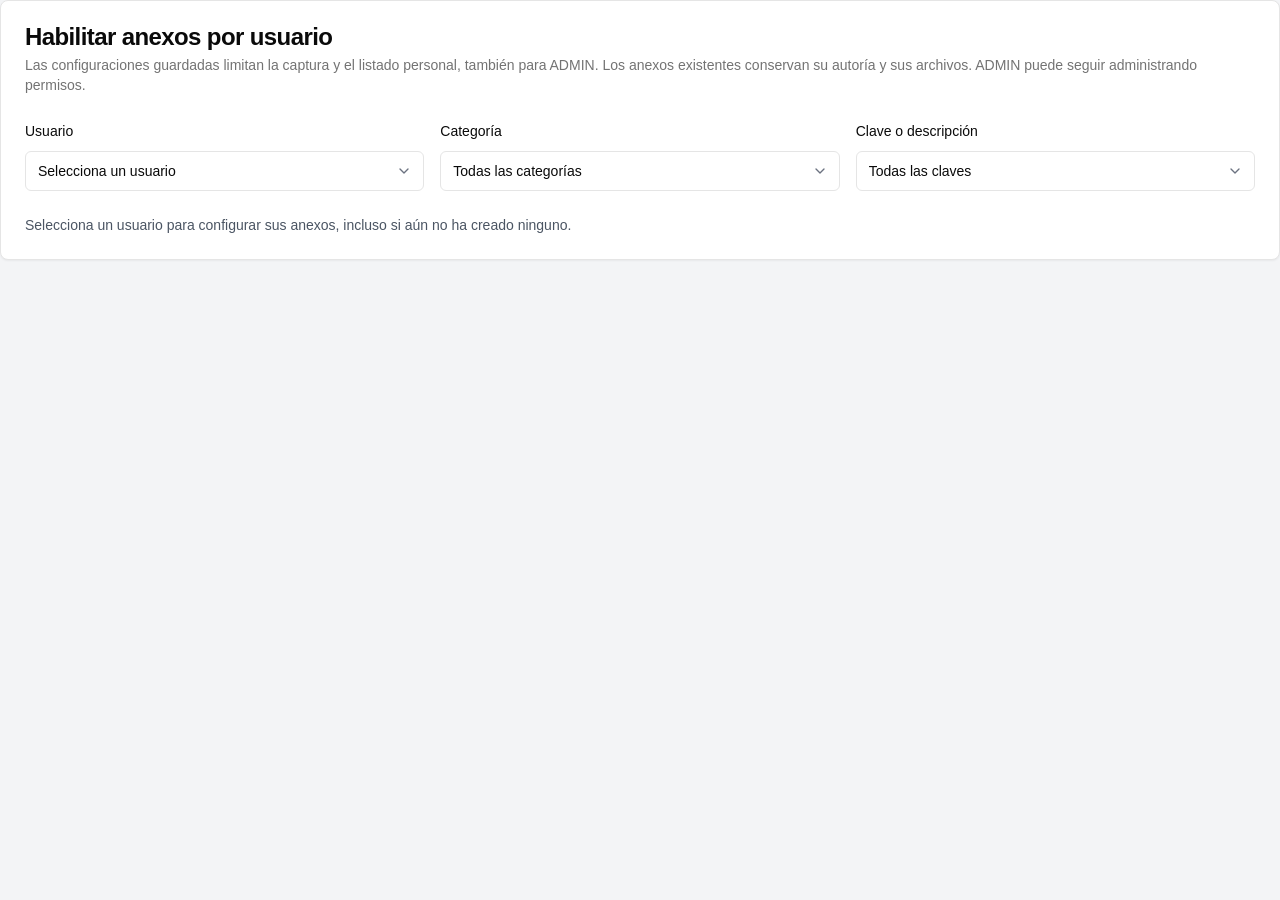
Test case: loads a proposal without applying or saving it
Replace the text in the dropdown named "Filtrar por usuario" with "Ana": (225, 171) 25,151 -> 424,191
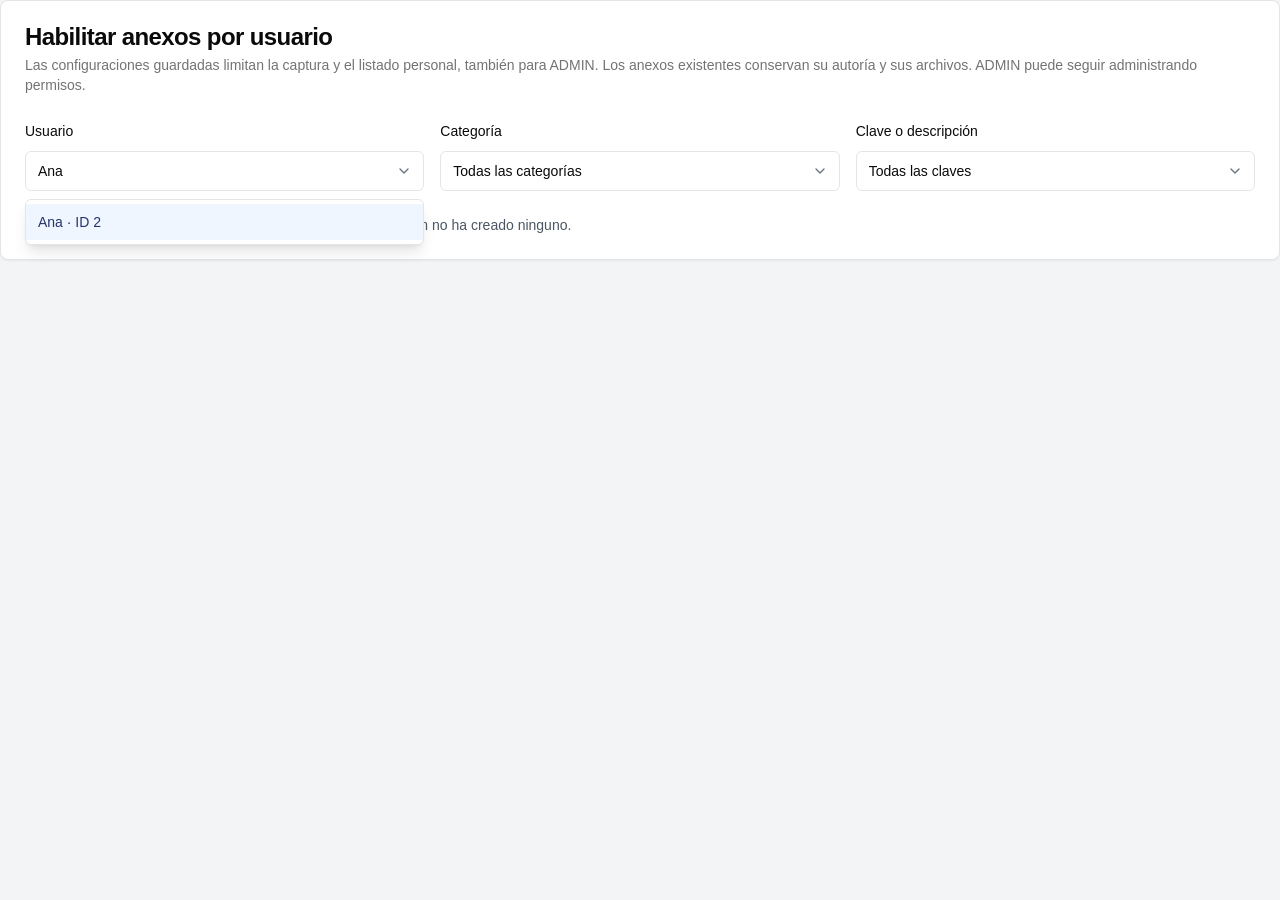
Press Enter in the dropdown named "Filtrar por usuario", box 25,151 -> 424,191
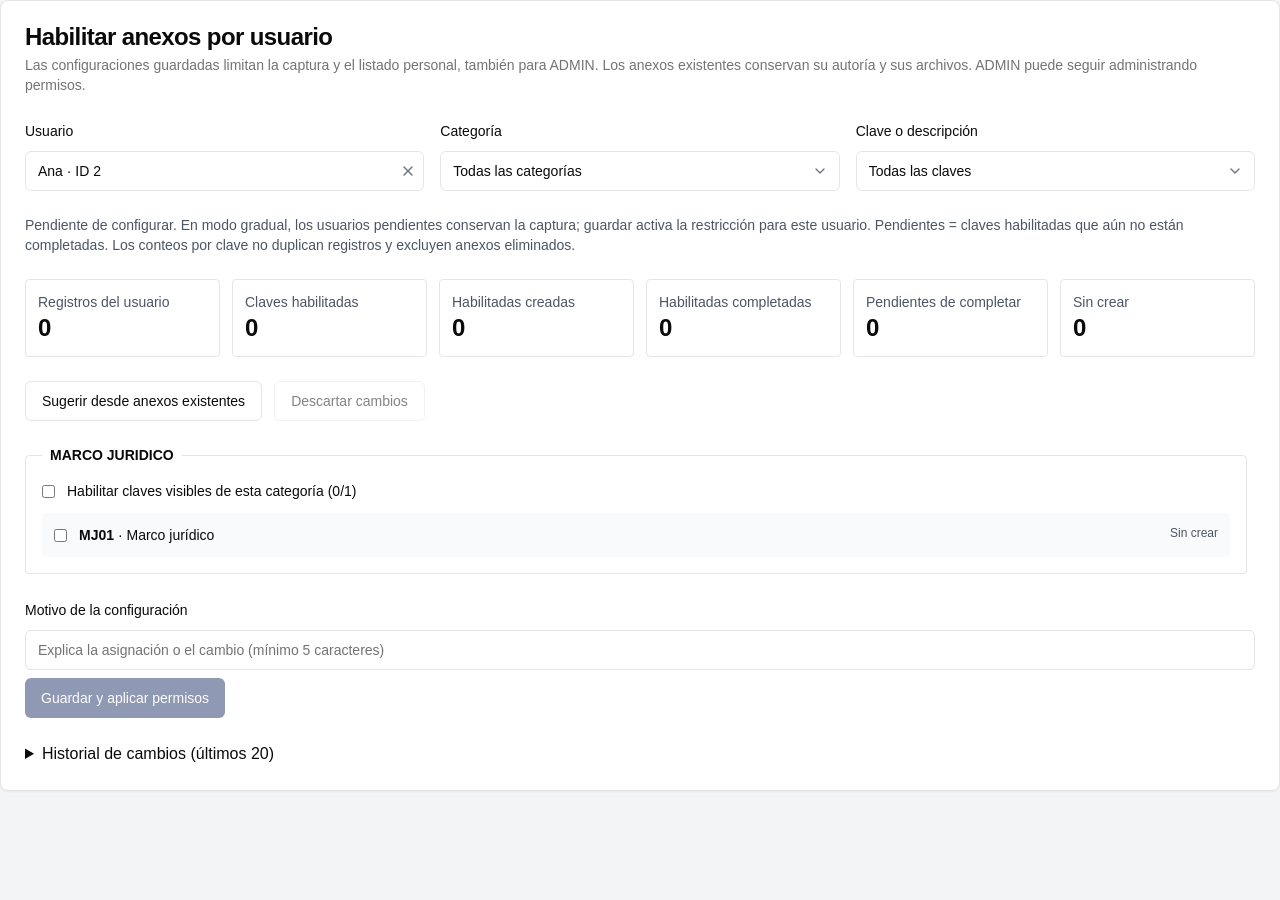
Result: the checkbox labelled "MJ01 · Marco jurídico Sin crear" is shown at 54,529 -> 67,542
Click the button "Sugerir desde anexos existentes": (144, 401) 25,381 -> 262,421
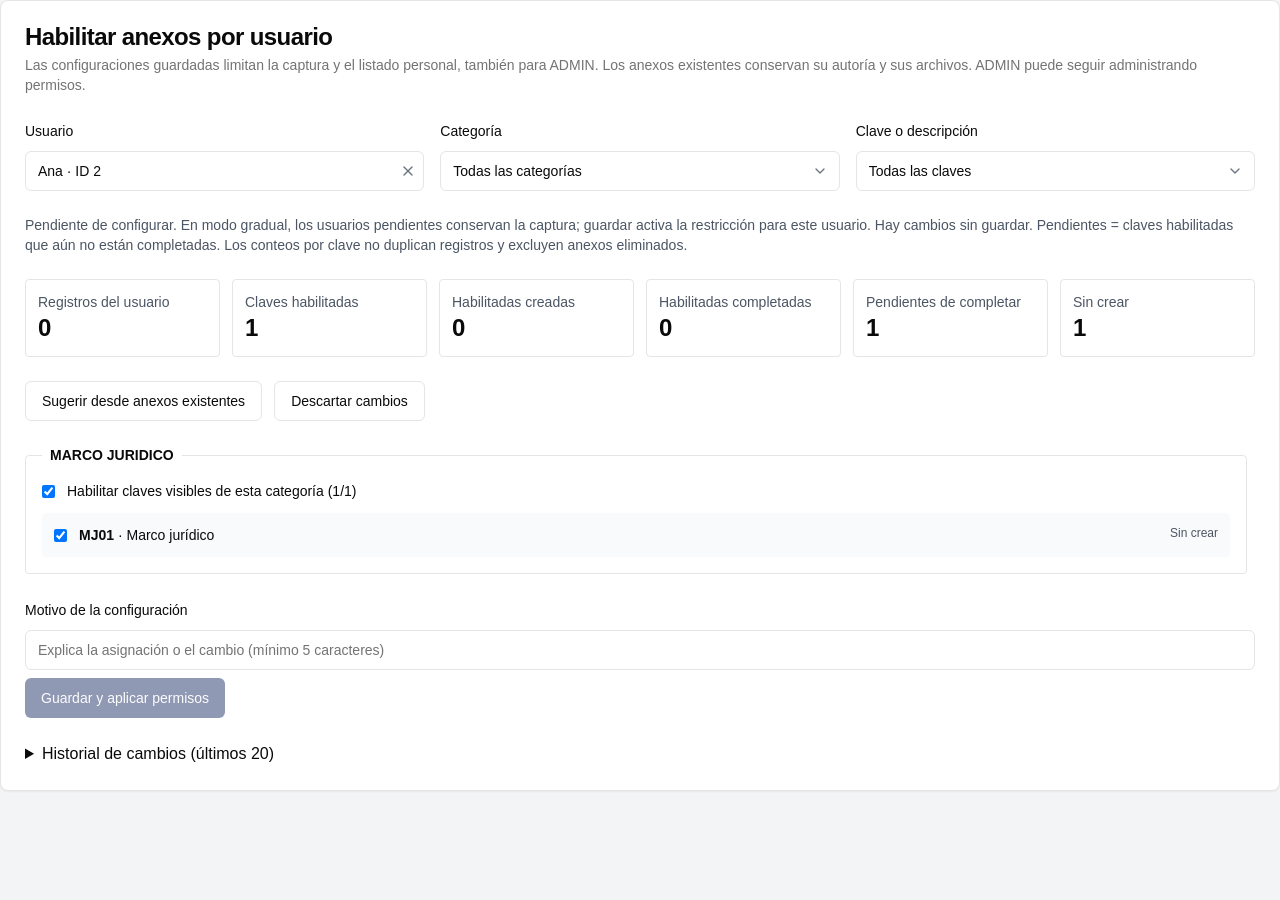
Result: the checkbox labelled "MJ01 · Marco jurídico Sin crear" is checked at 54,529 -> 67,542
